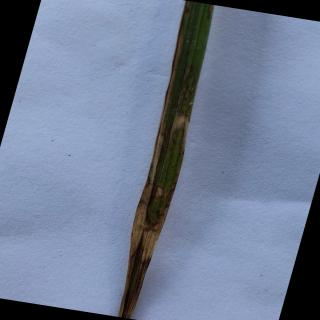Hawar-Daun: (118, 34, 204, 316)
